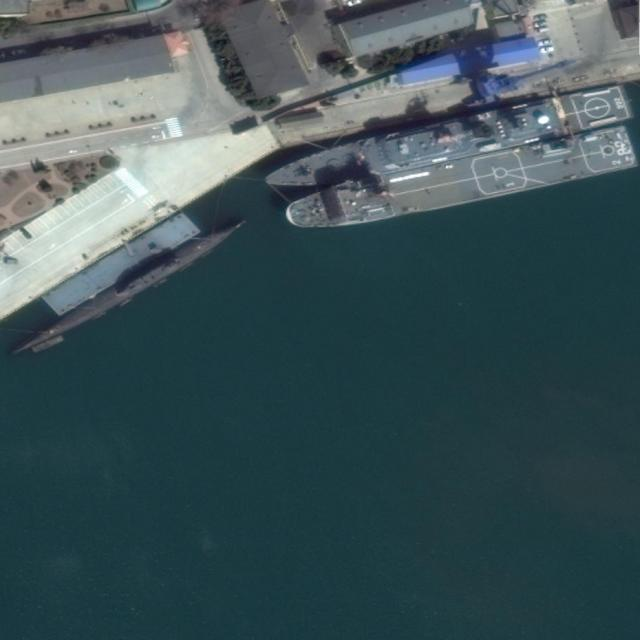Auxiliary Ships: (261, 82, 634, 198), (282, 125, 637, 237)
Submarine: (1, 210, 255, 372)
